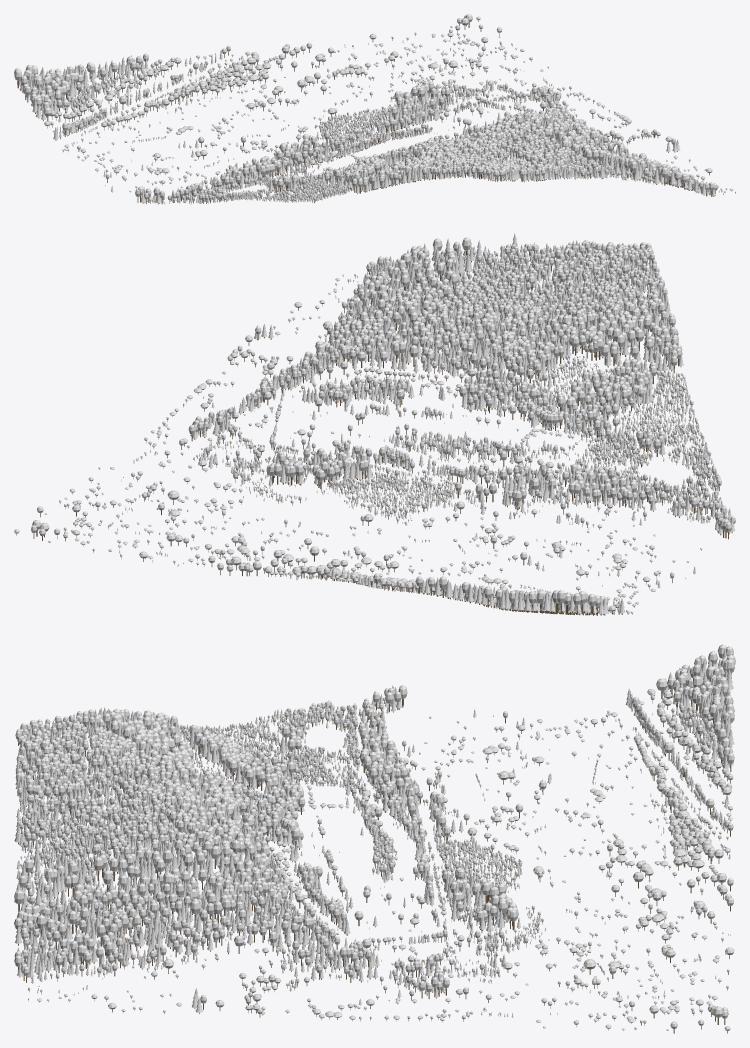
Rendered from stromy.glb.
3 renders of one model, top to bottom at view 1: azimuth 30°, elevation 25°; view 2: azimuth 150°, elevation 25°; view 3: azimuth 270°, elevation 25°, orthographic. The views are drawn at different scales.
Visible parts, largest first — view 1: Stromy_Listnate_08_02, Stromy_Ihlicnate_08_02; view 2: Stromy_Listnate_08_02, Stromy_Ihlicnate_08_02; view 3: Stromy_Listnate_08_02, Stromy_Ihlicnate_08_02.
Part boxes in pixels (x1,y1,x2,y2): Stromy_Listnate_08_02: (14,14,735,204); Stromy_Ihlicnate_08_02: (19,40,723,204); Stromy_Listnate_08_02: (14,237,735,615); Stromy_Ihlicnate_08_02: (111,233,735,615); Stromy_Listnate_08_02: (14,644,735,1033); Stromy_Ihlicnate_08_02: (14,648,734,1017).
Bounding box in the file's own units: 1012 × 226 × 1013.
